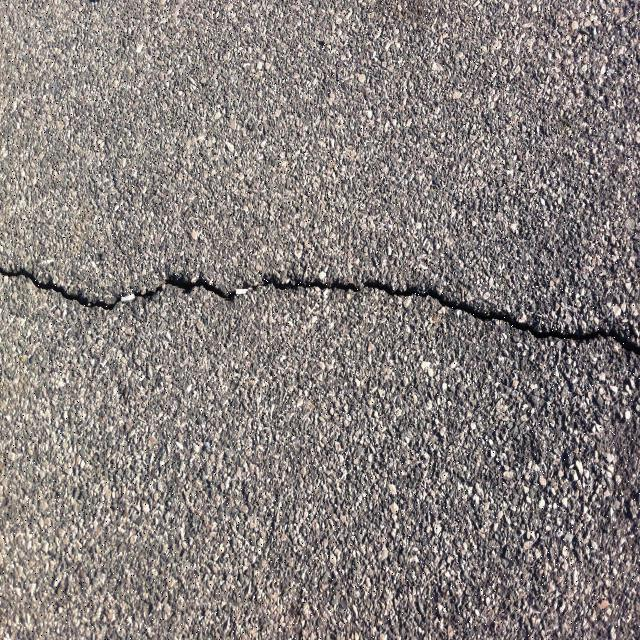Crack: (0, 265, 640, 361)
